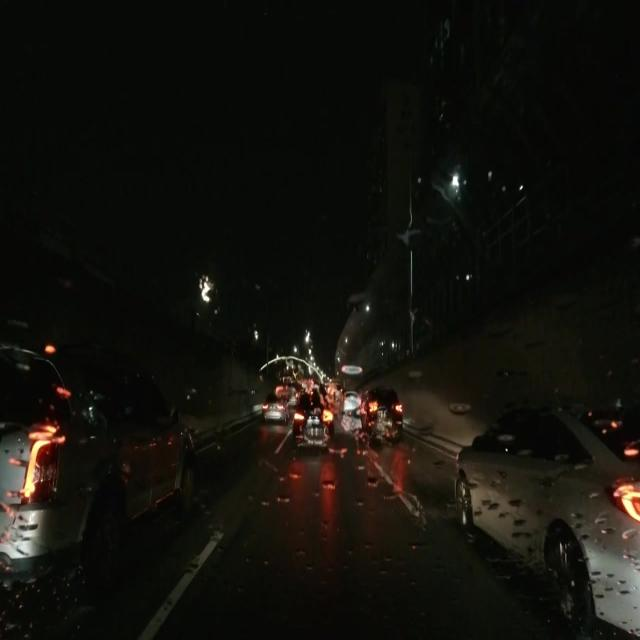Car: (5, 342, 193, 597), (456, 388, 639, 626), (358, 388, 402, 441), (290, 391, 331, 446), (260, 392, 285, 426)
